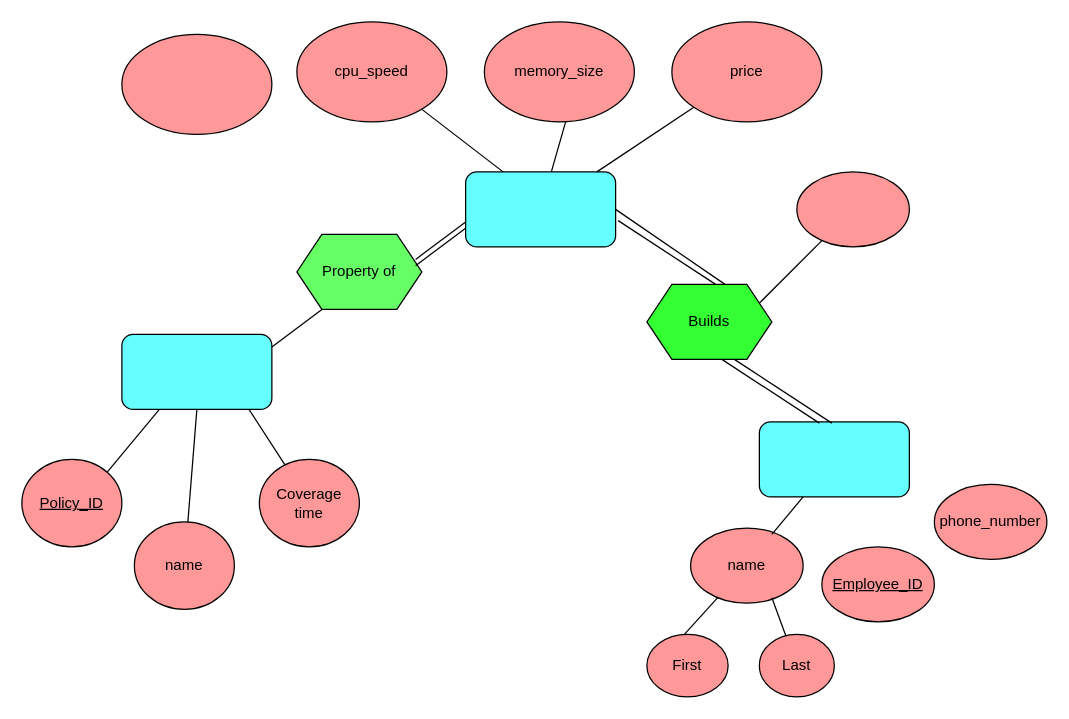
Some shapes in this 1069 by 719 pixel diagram are drawn without their labels. The shapes that lost their labels are listed below. From the top down, each one's centre as x and y in pixels, then its label:
At (196,83): "Serial_ID".
At (540,209): "Computer".
At (852,209): "time".
At (196,371): "Warranty".
At (833,459): "Worker".
